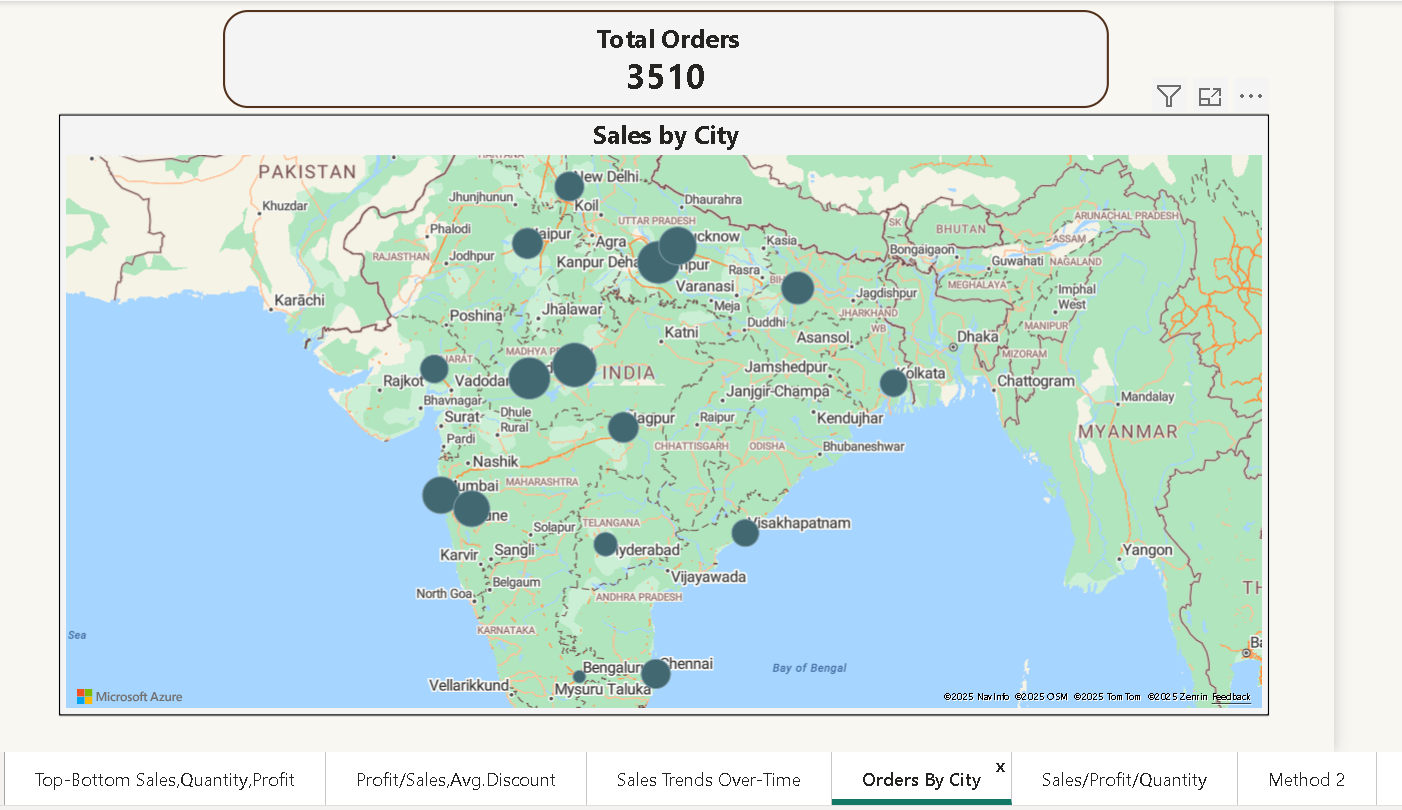

The page's visual inventory and layout, read from the dashboard file:
{"tool":"powerbi","page":{"name":"Orders By City","canvas":[1280,720],"ordinal":3},"visuals":[{"type":"azureMap","title":"Sales by City","fields":{"Category":["Dim Customers.City"],"Size":["Sum(Fact Table.Net Sales)"]},"box":[58,108,1162,578],"z":0},{"type":"card","title":"Total Orders","fields":{"Values":["CountNonNull(Fact Table.Order Id)"]},"box":[215,9.1,849.5,93.9],"z":2000}]}

Visuals, with their boxes in screenshot pixels (x1, y1, x2, y2):
"Sales by City" azureMap: (left=57, top=109, right=1267, bottom=711)
"Total Orders" card: (left=220, top=6, right=1105, bottom=104)
